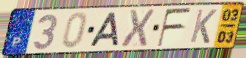0: (59, 11, 89, 51)
3: (32, 12, 60, 51)
A: (88, 11, 121, 49)
F: (156, 7, 194, 48)
K: (188, 8, 219, 45)
X: (119, 8, 156, 50)
